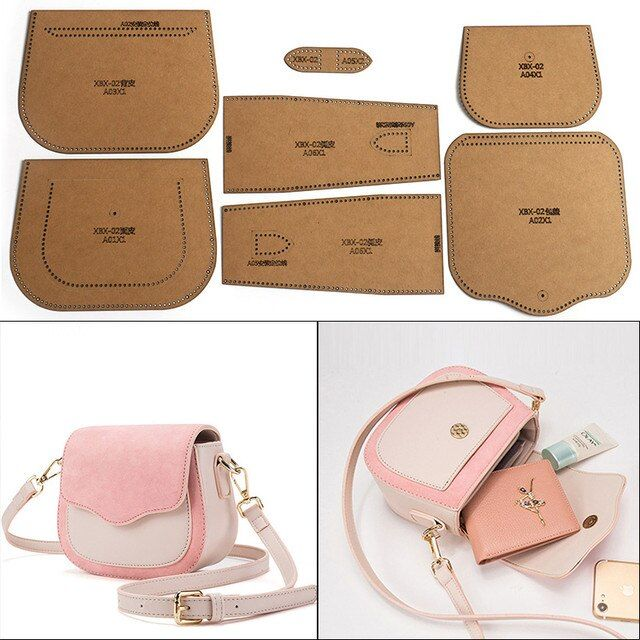cuero: (3, 365, 640, 638)
